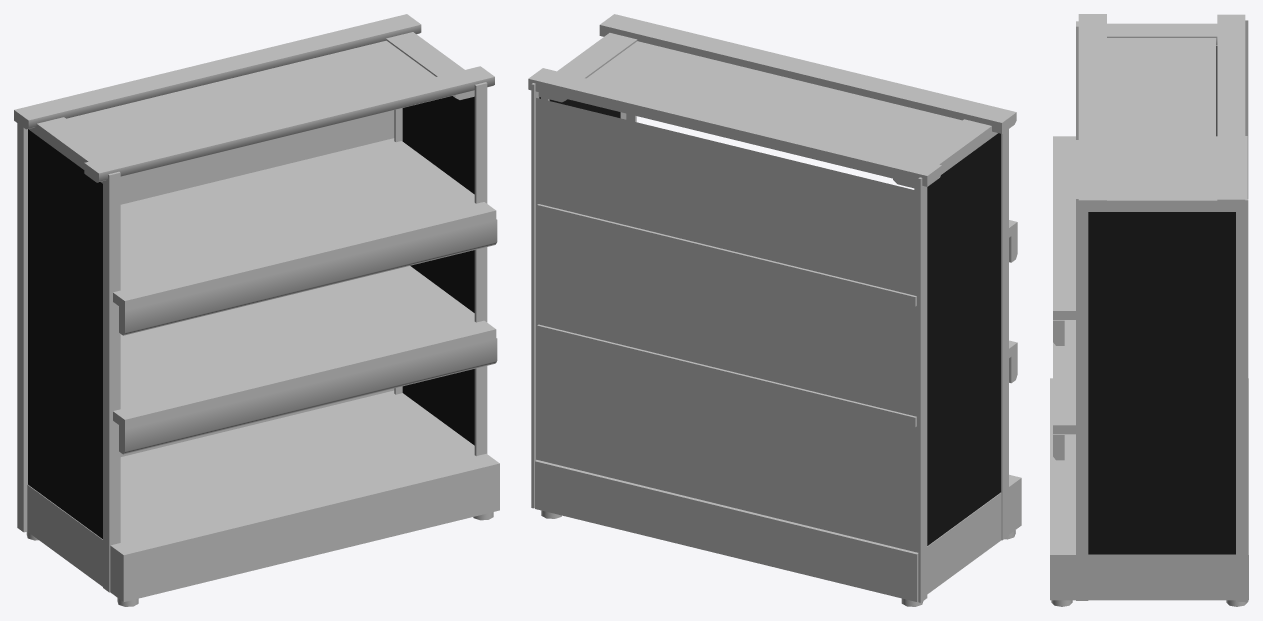
The model's file is SM_Shelving7.fbx.
3 renders of one model, left to right at view 1: azimuth 30°, elevation 25°; view 2: azimuth 150°, elevation 25°; view 3: azimuth 270°, elevation 25°, orthographic. The views are drawn at different scales.
Visible parts, largest first — view 1: SM_Shelving7_LOD0; view 2: SM_Shelving7_LOD0; view 3: SM_Shelving7_LOD0.
Boxes of the visible parts, <box> form: SM_Shelving7_LOD0: <box>14,14,499,606</box>; SM_Shelving7_LOD0: <box>528,14,1021,606</box>; SM_Shelving7_LOD0: <box>1050,14,1248,606</box>.
Bounding box in the file's own units: 105 × 47.23 × 108.
